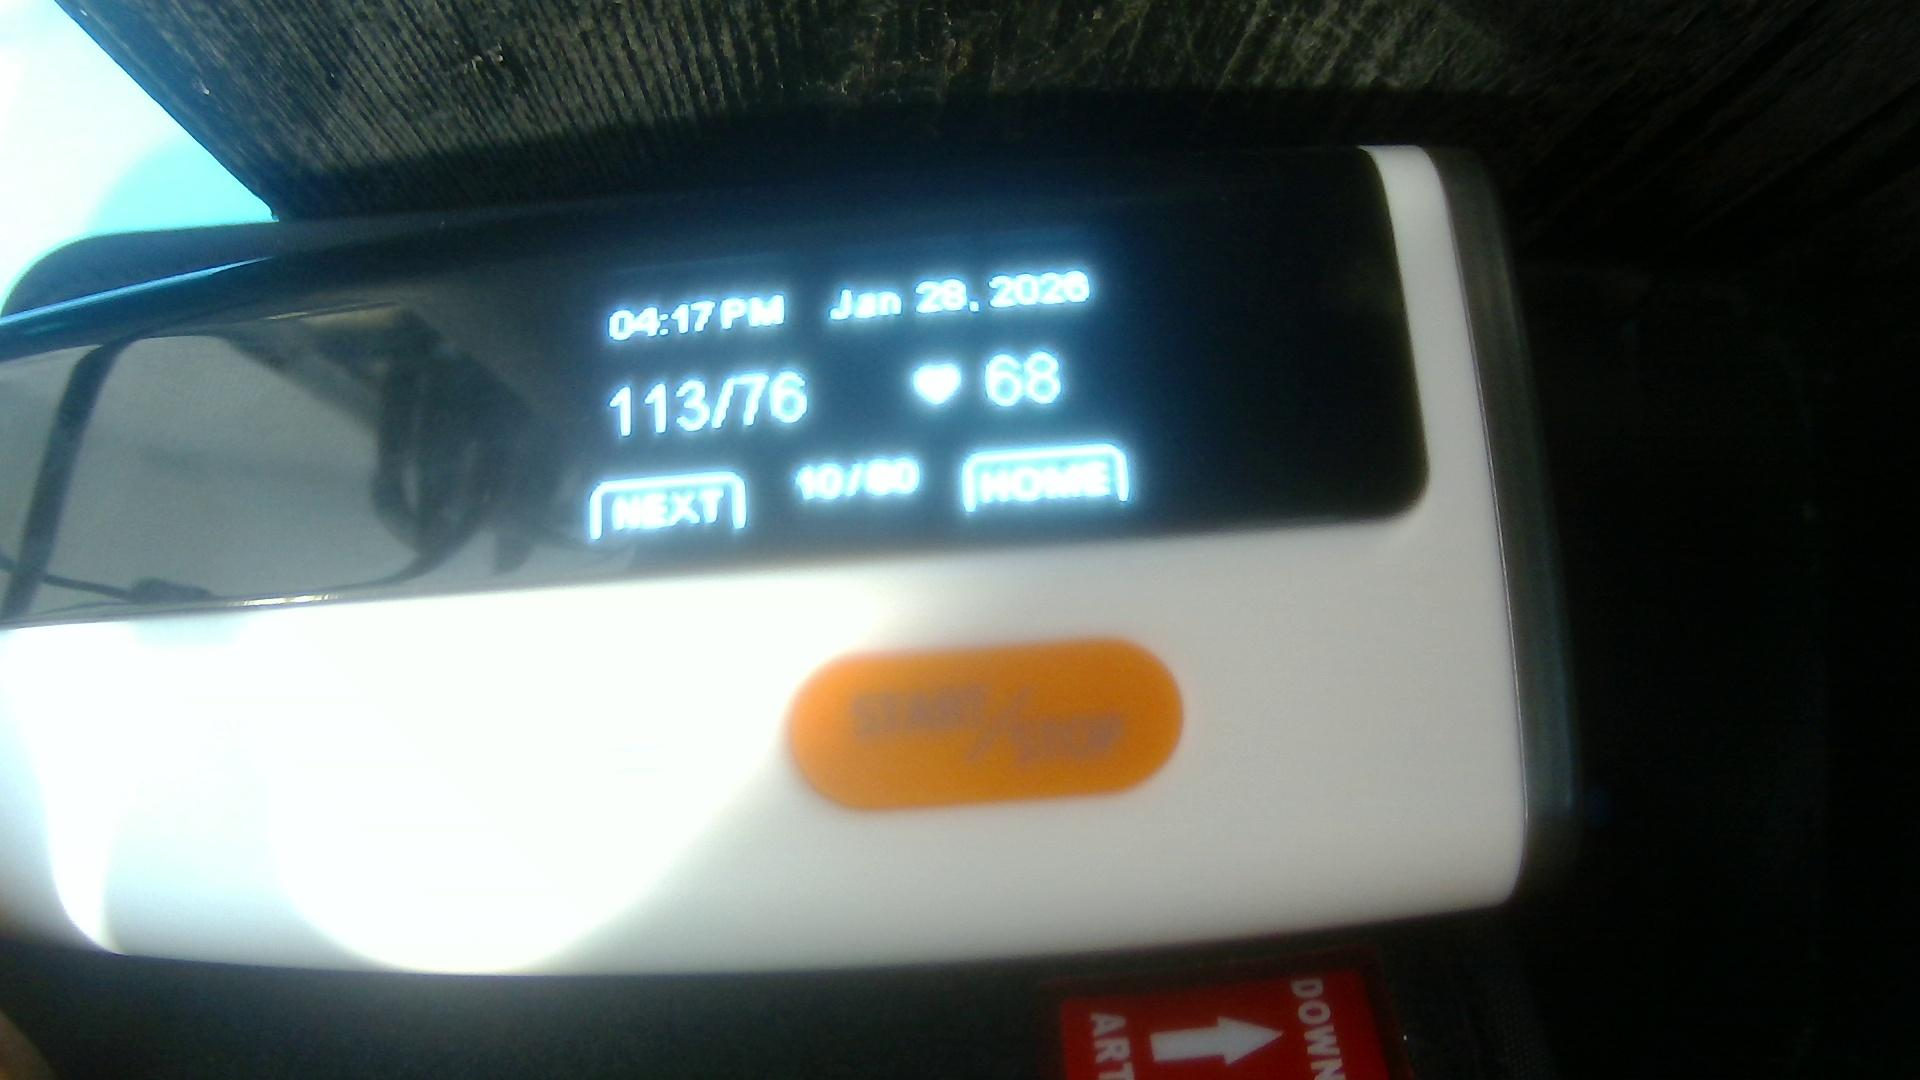DISPLAY: (12, 137, 1422, 622)
